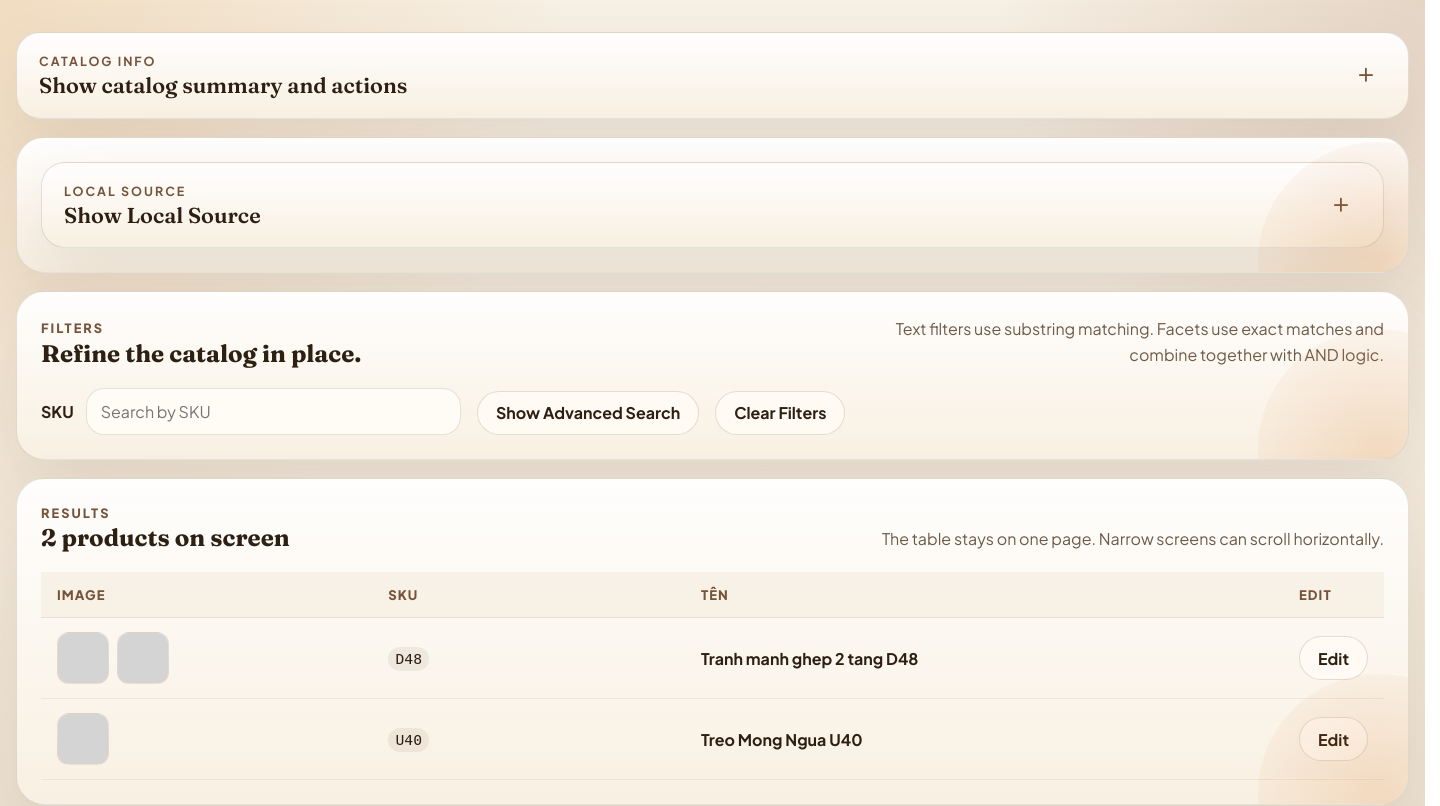
Test case: App › keeps Local Source collapsed by default and reveals the source inputs only after expanding it
Click the button "Catalog Info Show catalog summary and actions +" at (98, 61), box [16,32,1409,119]
(page scrolled)
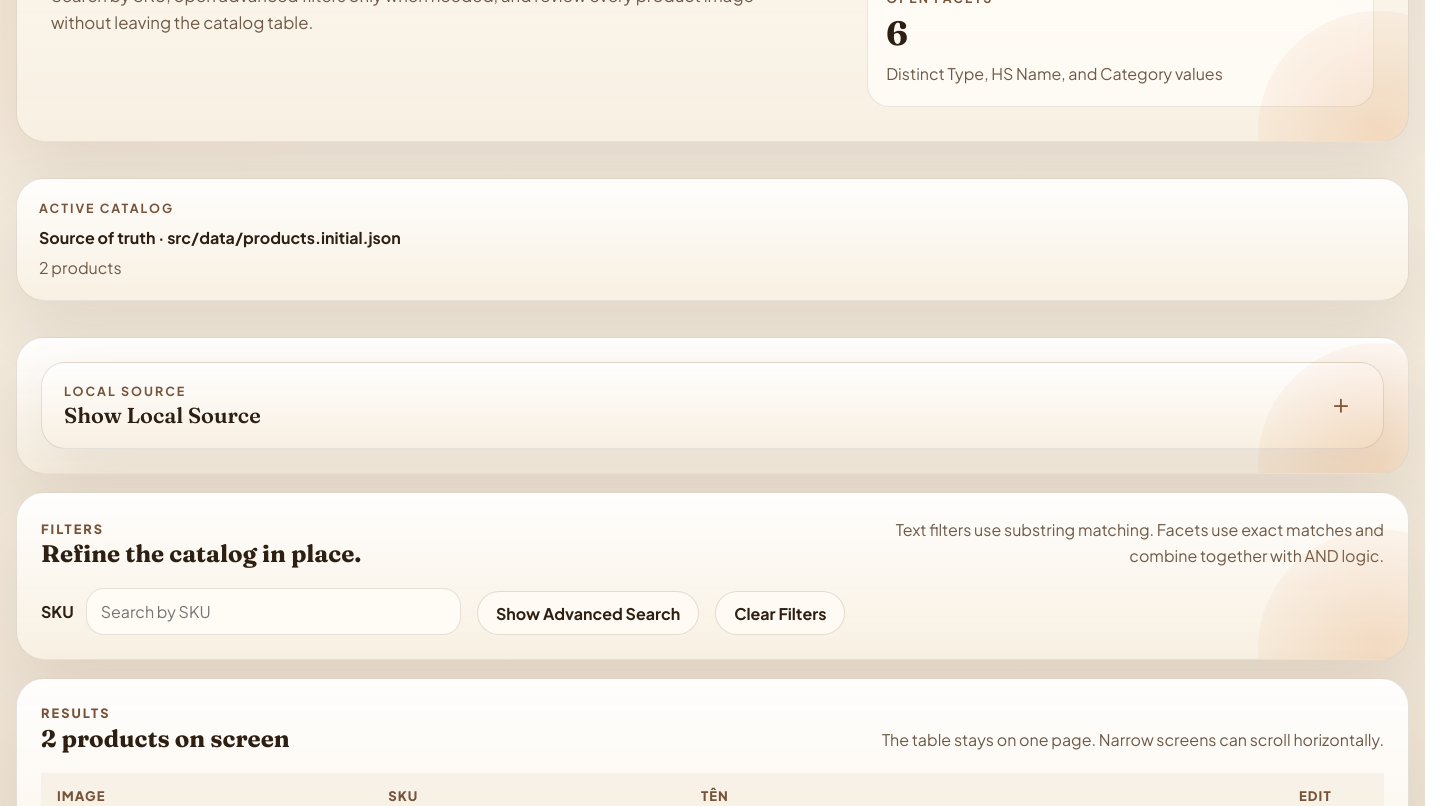
Expected: the element named "Catalog source editor" is shown, [16,337,1409,474]
Expected: the field labelled "Paste HTML" is not shown
Click the button "Local Source Show Local Source +" at (125, 391), box [41,362,1384,449]
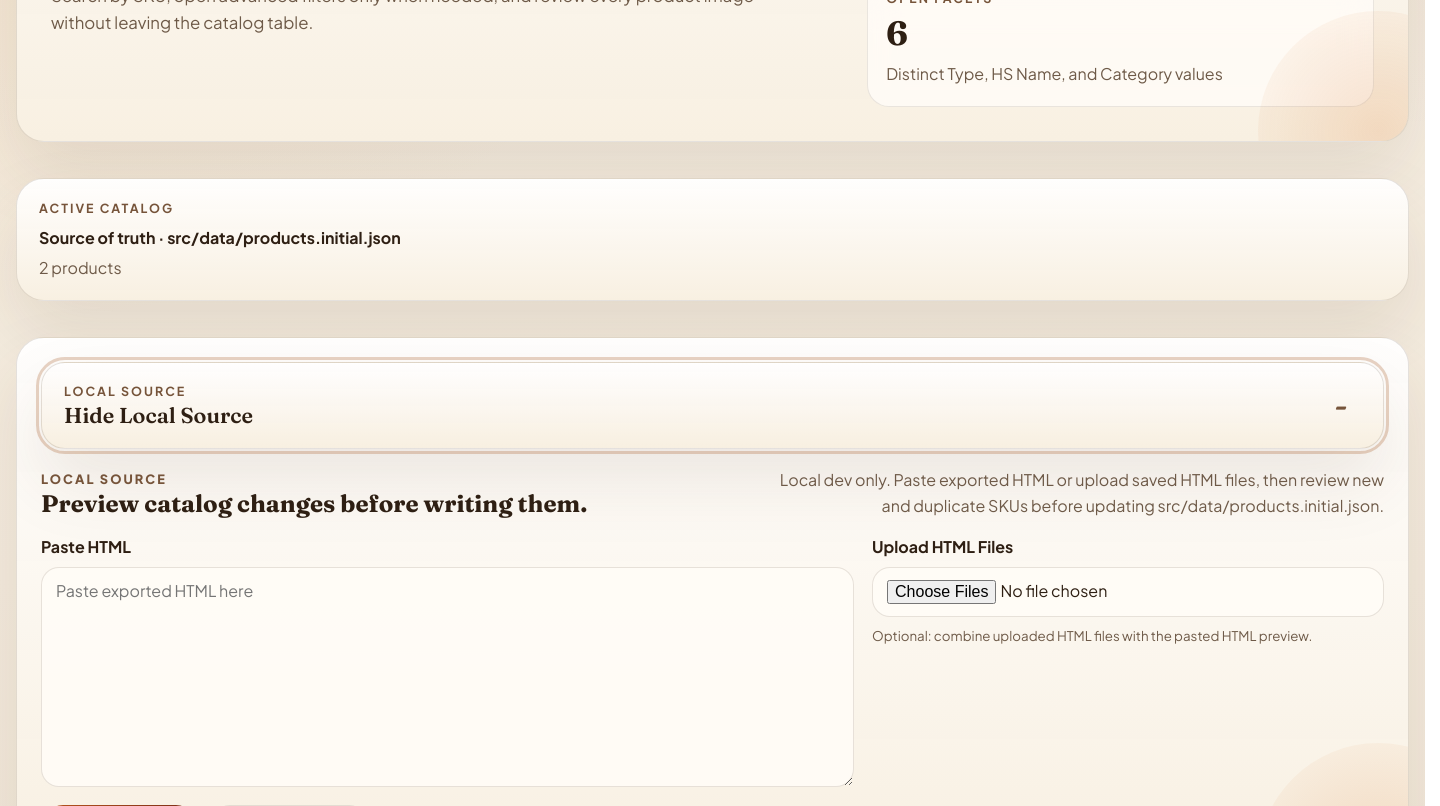
Now the button "Local Source Hide Local Source -" is expanded, box [41,362,1384,449]
Now the text box labelled "Paste HTML" is shown, box [41,567,854,787]
Now the file field labelled "Upload HTML Files" is shown, box [872,567,1384,617]
